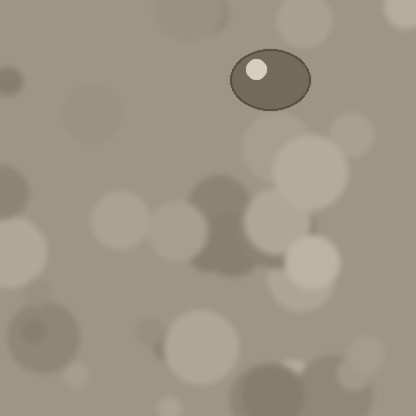gota: (230, 51, 310, 115)
